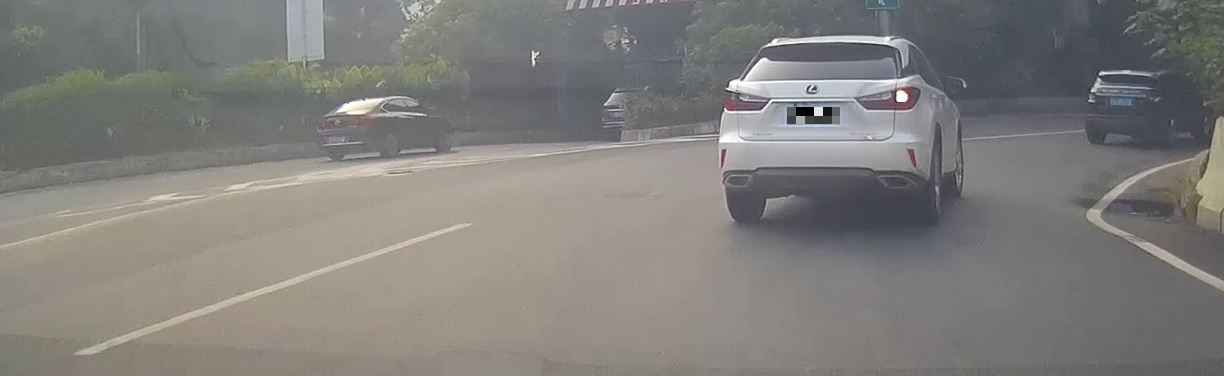L_light: (723, 88, 771, 111), (1087, 91, 1100, 103), (318, 119, 328, 130)
R_light: (855, 86, 921, 110), (1142, 93, 1160, 104), (355, 117, 374, 127)
T_light: (819, 39, 841, 47), (1121, 72, 1133, 77), (357, 99, 366, 104)
day-no: (1084, 69, 1165, 145), (317, 98, 383, 161)
day-right: (720, 34, 922, 223)
plate_1: (787, 107, 840, 124)
